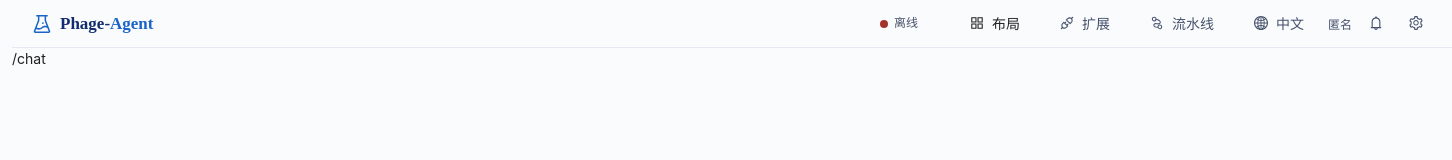
Test: AppHeader pipelines entry › opens the pipelines page when the server has them on
What coordinates should you click on to do the following:
click the button "流水线"
I would click on:
 (1182, 23)
Its box is [1134,7,1230,39].
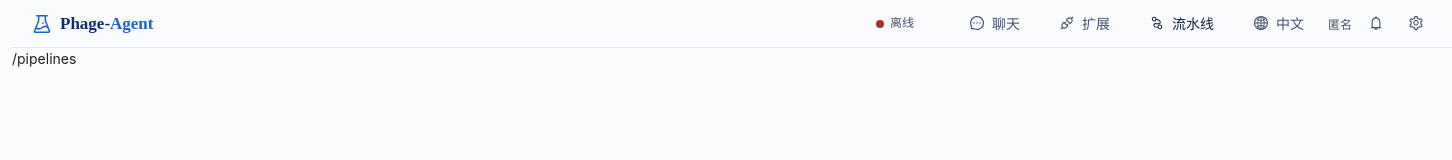
Expected: the text with test id "where" reads "/pipelines", [12,50,76,67]
